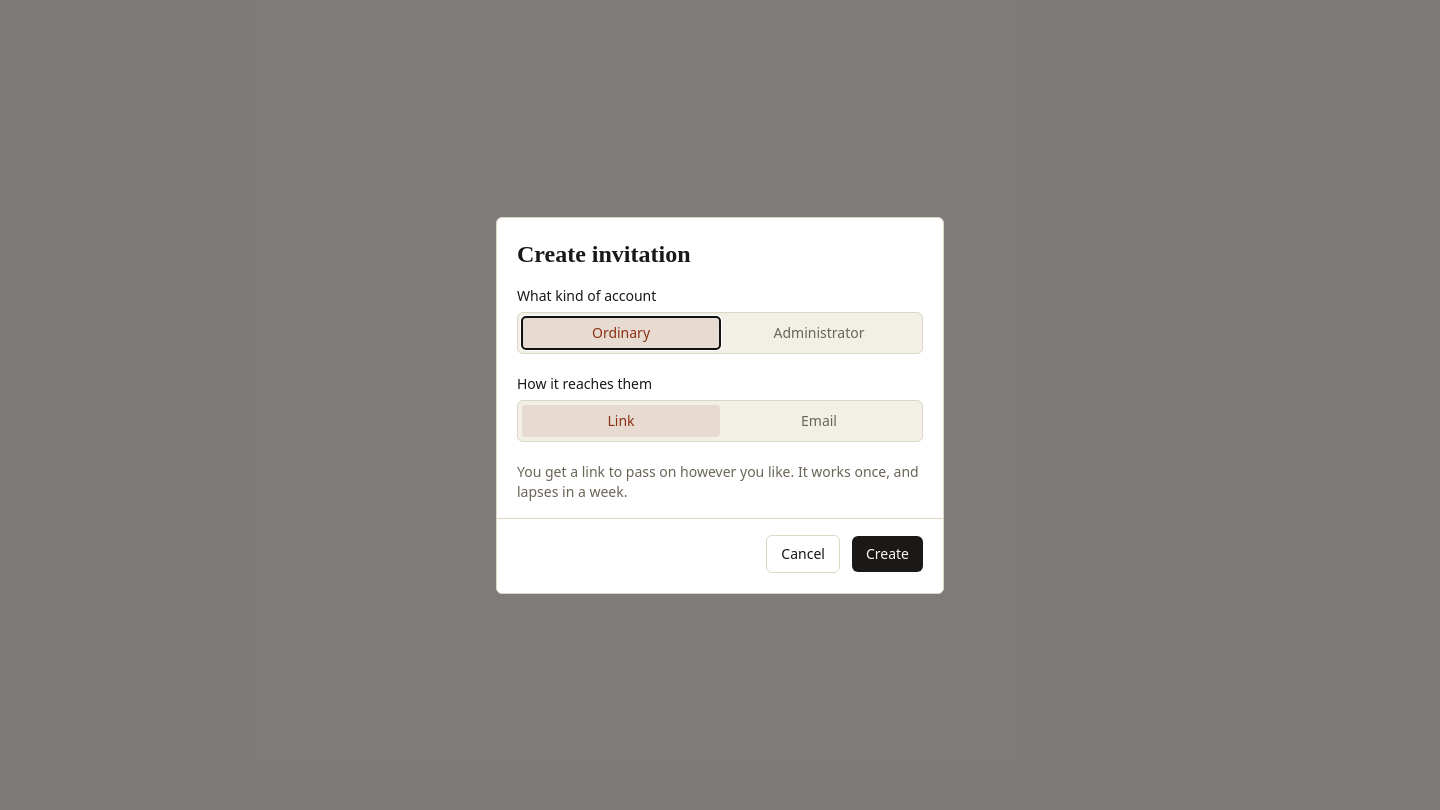
Test case: InviteDialog › says why it cannot send when no relay is configured
Expected: the text "No mail relay" is not shown
Click the radio button labelled "Email". click: (819, 420)
box: [720,404,918,436]
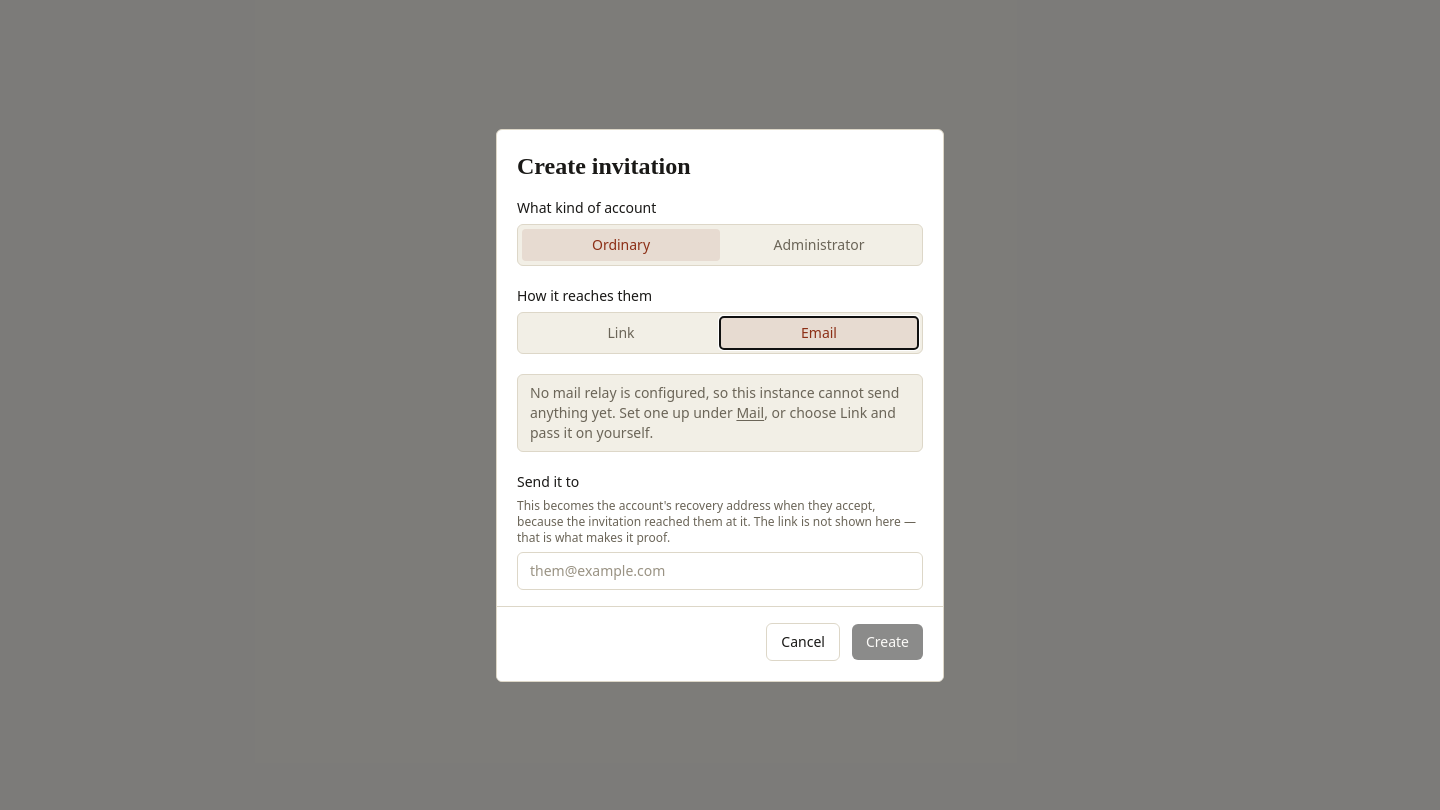
Now the text "No mail relay is configured" is shown, box [530,382,899,422]
Now the button "Create" is disabled, box [852,624,923,660]
